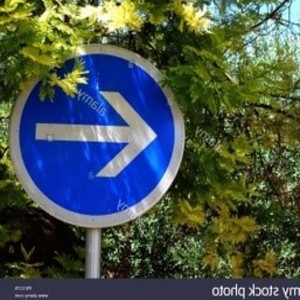trun_right: (8, 43, 187, 228)
